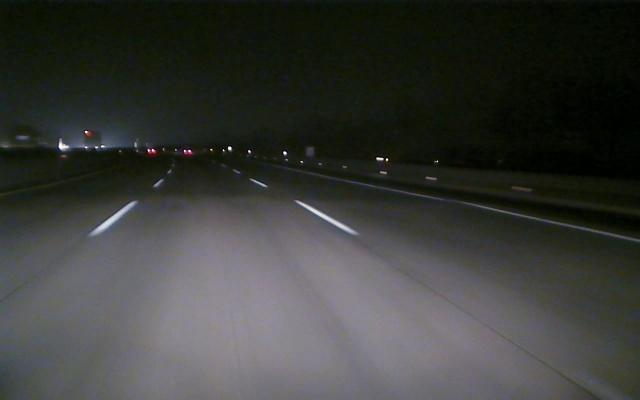lane: (331, 178, 638, 244), (251, 179, 363, 239), (90, 181, 163, 236)
